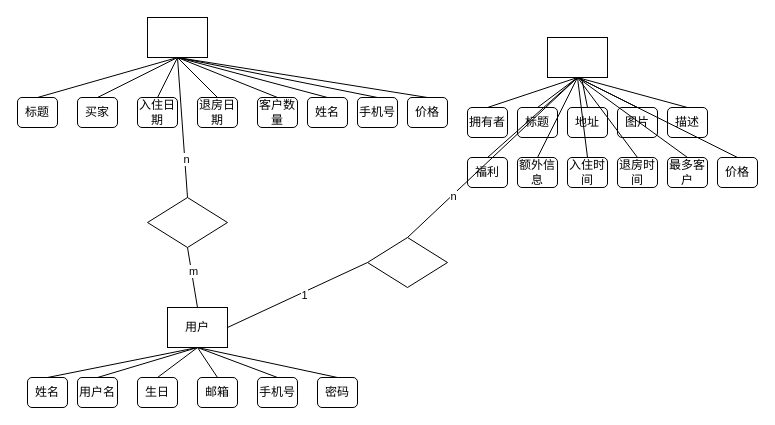
Some shapes in this 775 by 425 pixel diagram are drawn without their labels. Each missing label, with the box of its shape:
住处: (546, 36, 608, 78)
发布: (366, 236, 448, 288)
订单: (146, 16, 208, 58)
预订: (146, 196, 228, 248)
